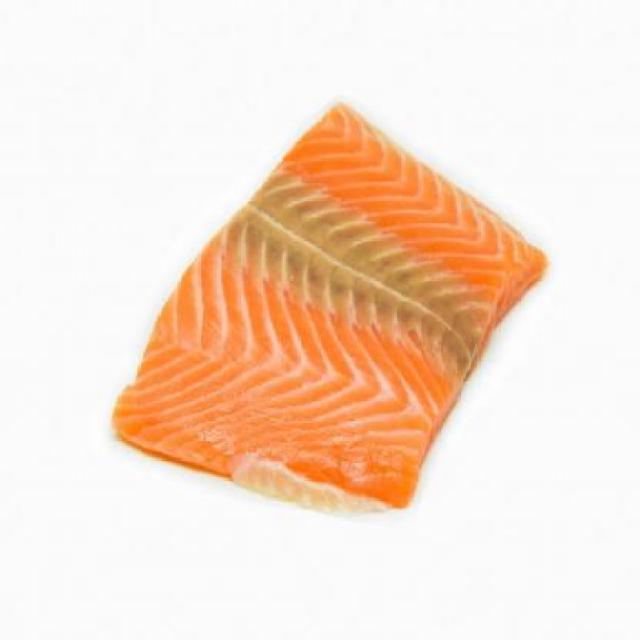salmon: (103, 85, 559, 528)
